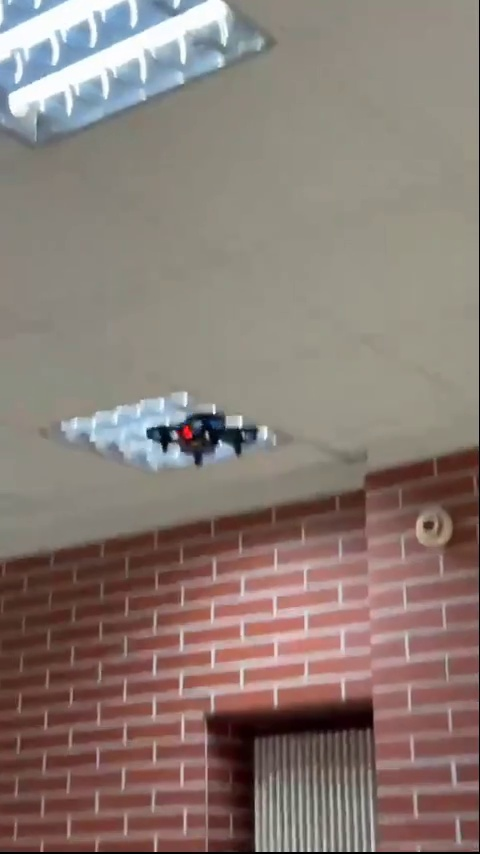drone: (145, 413, 252, 462)
